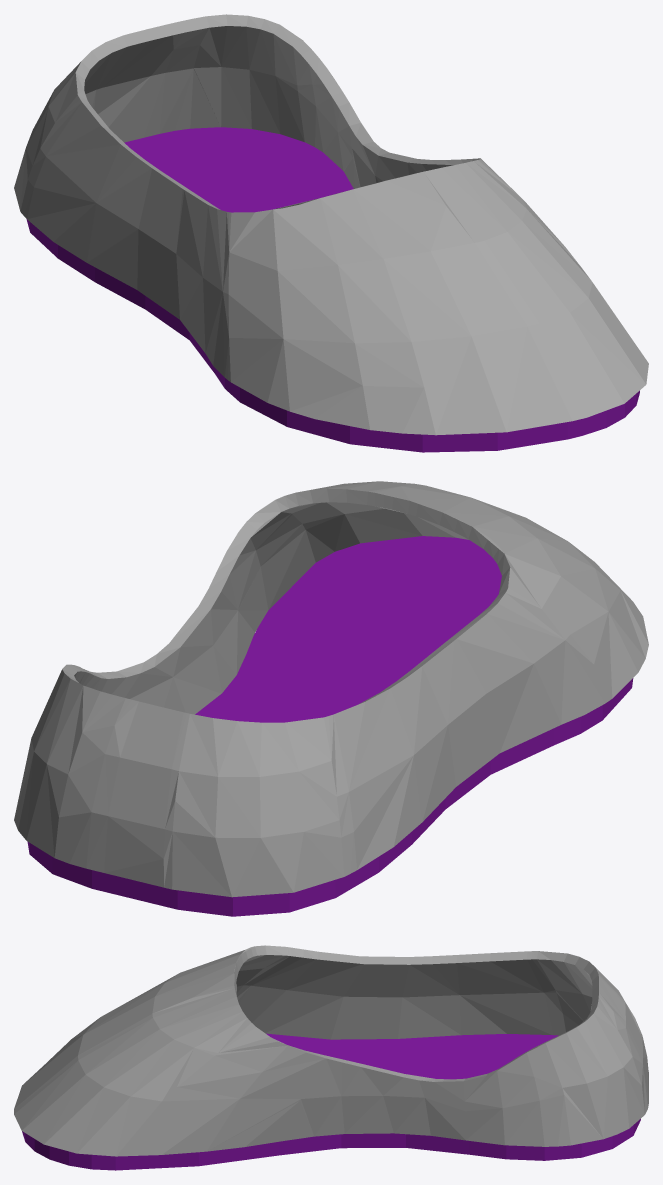
Rendered from r_foot.dae.
3 views of the same model, one above another, from view 1: azimuth 30°, elevation 25°; view 2: azimuth 150°, elevation 25°; view 3: azimuth 270°, elevation 25° (orthographic). The views are drawn at different scales.
Visible parts, largest first — view 1: node; view 2: node; view 3: node.
Boxes of the visible parts, x1,y1,x2,y2 form: node: (14,14,648,452); node: (14,481,648,916); node: (14,945,648,1170).
Size of the model in its own units: 94.99 by 45.82 by 195.
